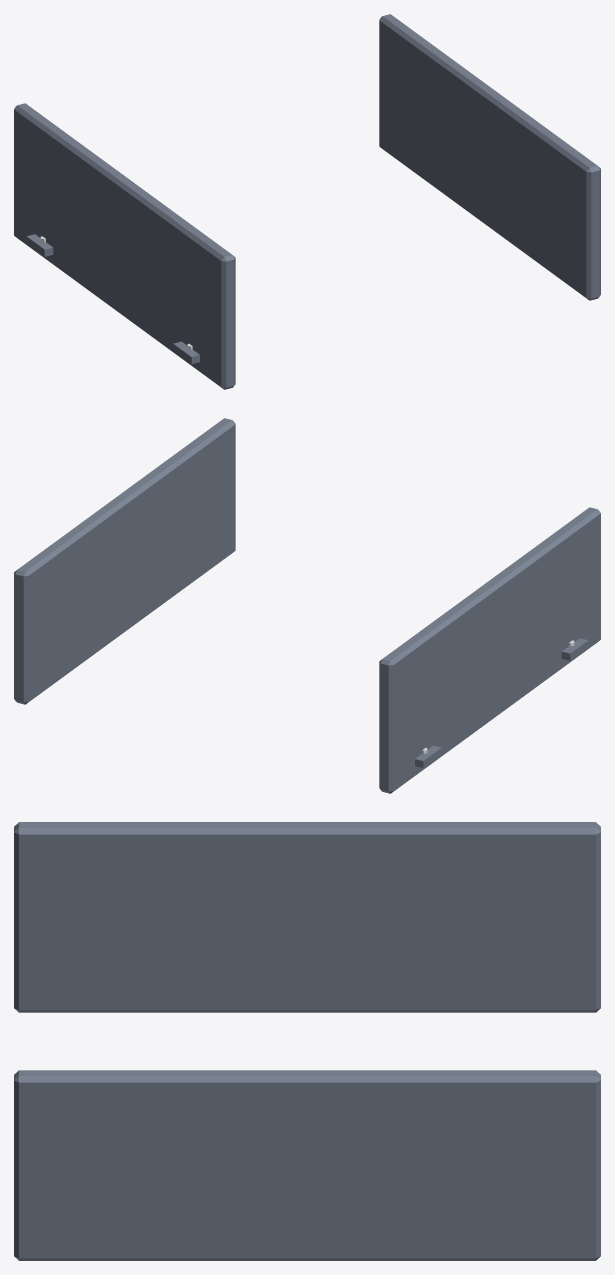
The model's file is Shield_Minimal.glb.
3 views of the same model, one above another, from view 1: azimuth 30°, elevation 25°; view 2: azimuth 150°, elevation 25°; view 3: azimuth 270°, elevation 25° (orthographic). The views are drawn at different scales.
Visible parts, largest first — view 1: Shield_Minimal; view 2: Shield_Minimal; view 3: Shield_Minimal.
Part boxes in pixels (x1=…): Shield_Minimal: x1=14, y1=14, x2=600, y2=389; Shield_Minimal: x1=14, y1=418, x2=600, y2=793; Shield_Minimal: x1=14, y1=822, x2=600, y2=1260.
Size of the model in its own units: 1.47 by 0.48 by 1.38.
